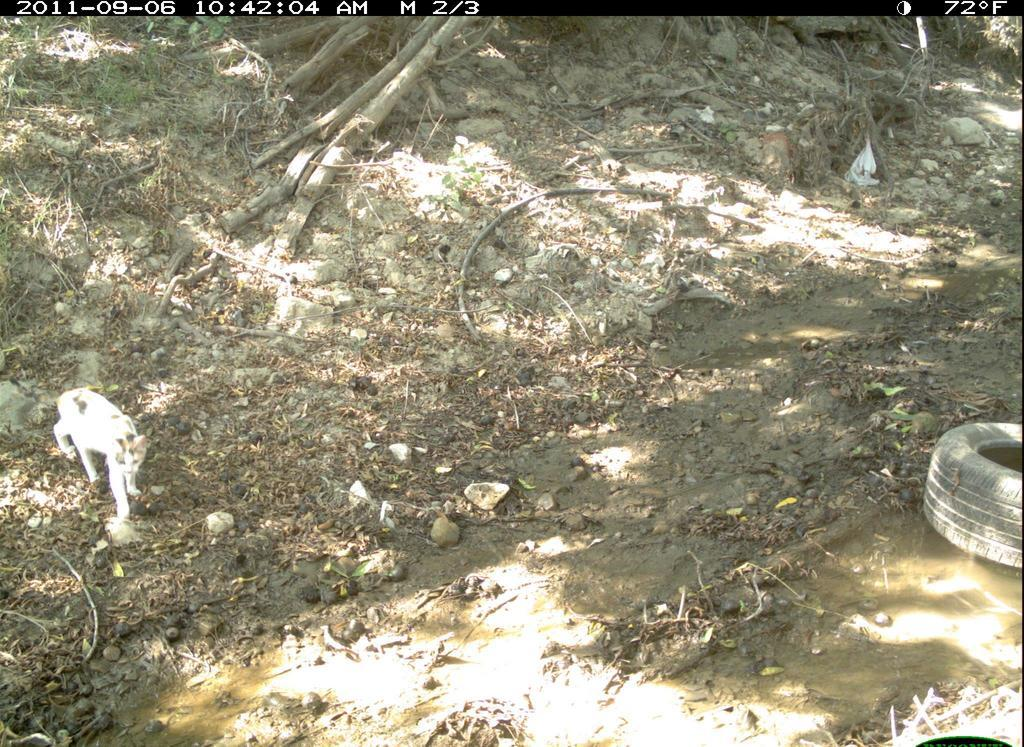cat: (16, 369, 159, 532)
